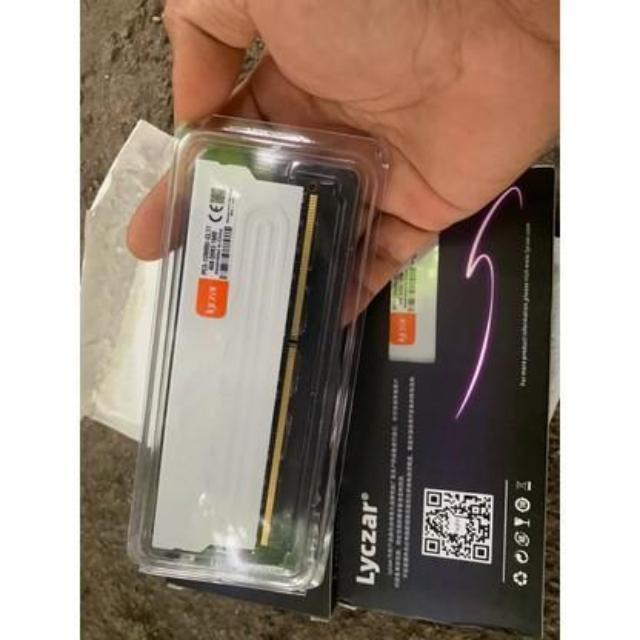RAM: (153, 144, 322, 566)
